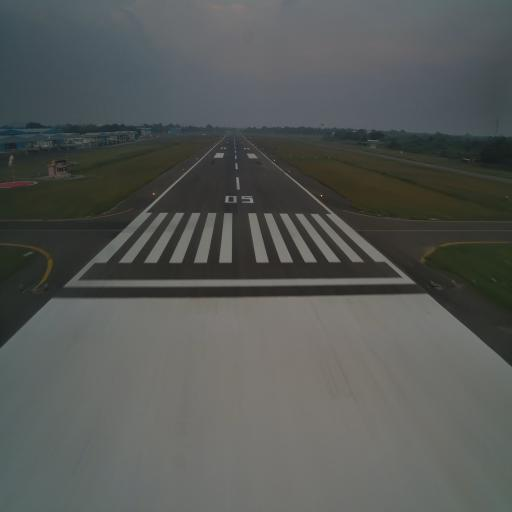on: (451, 277, 456, 286), (492, 276, 497, 284), (44, 282, 49, 289), (472, 277, 477, 284), (19, 283, 23, 290), (430, 279, 434, 286), (320, 193, 324, 199), (152, 191, 155, 197)
